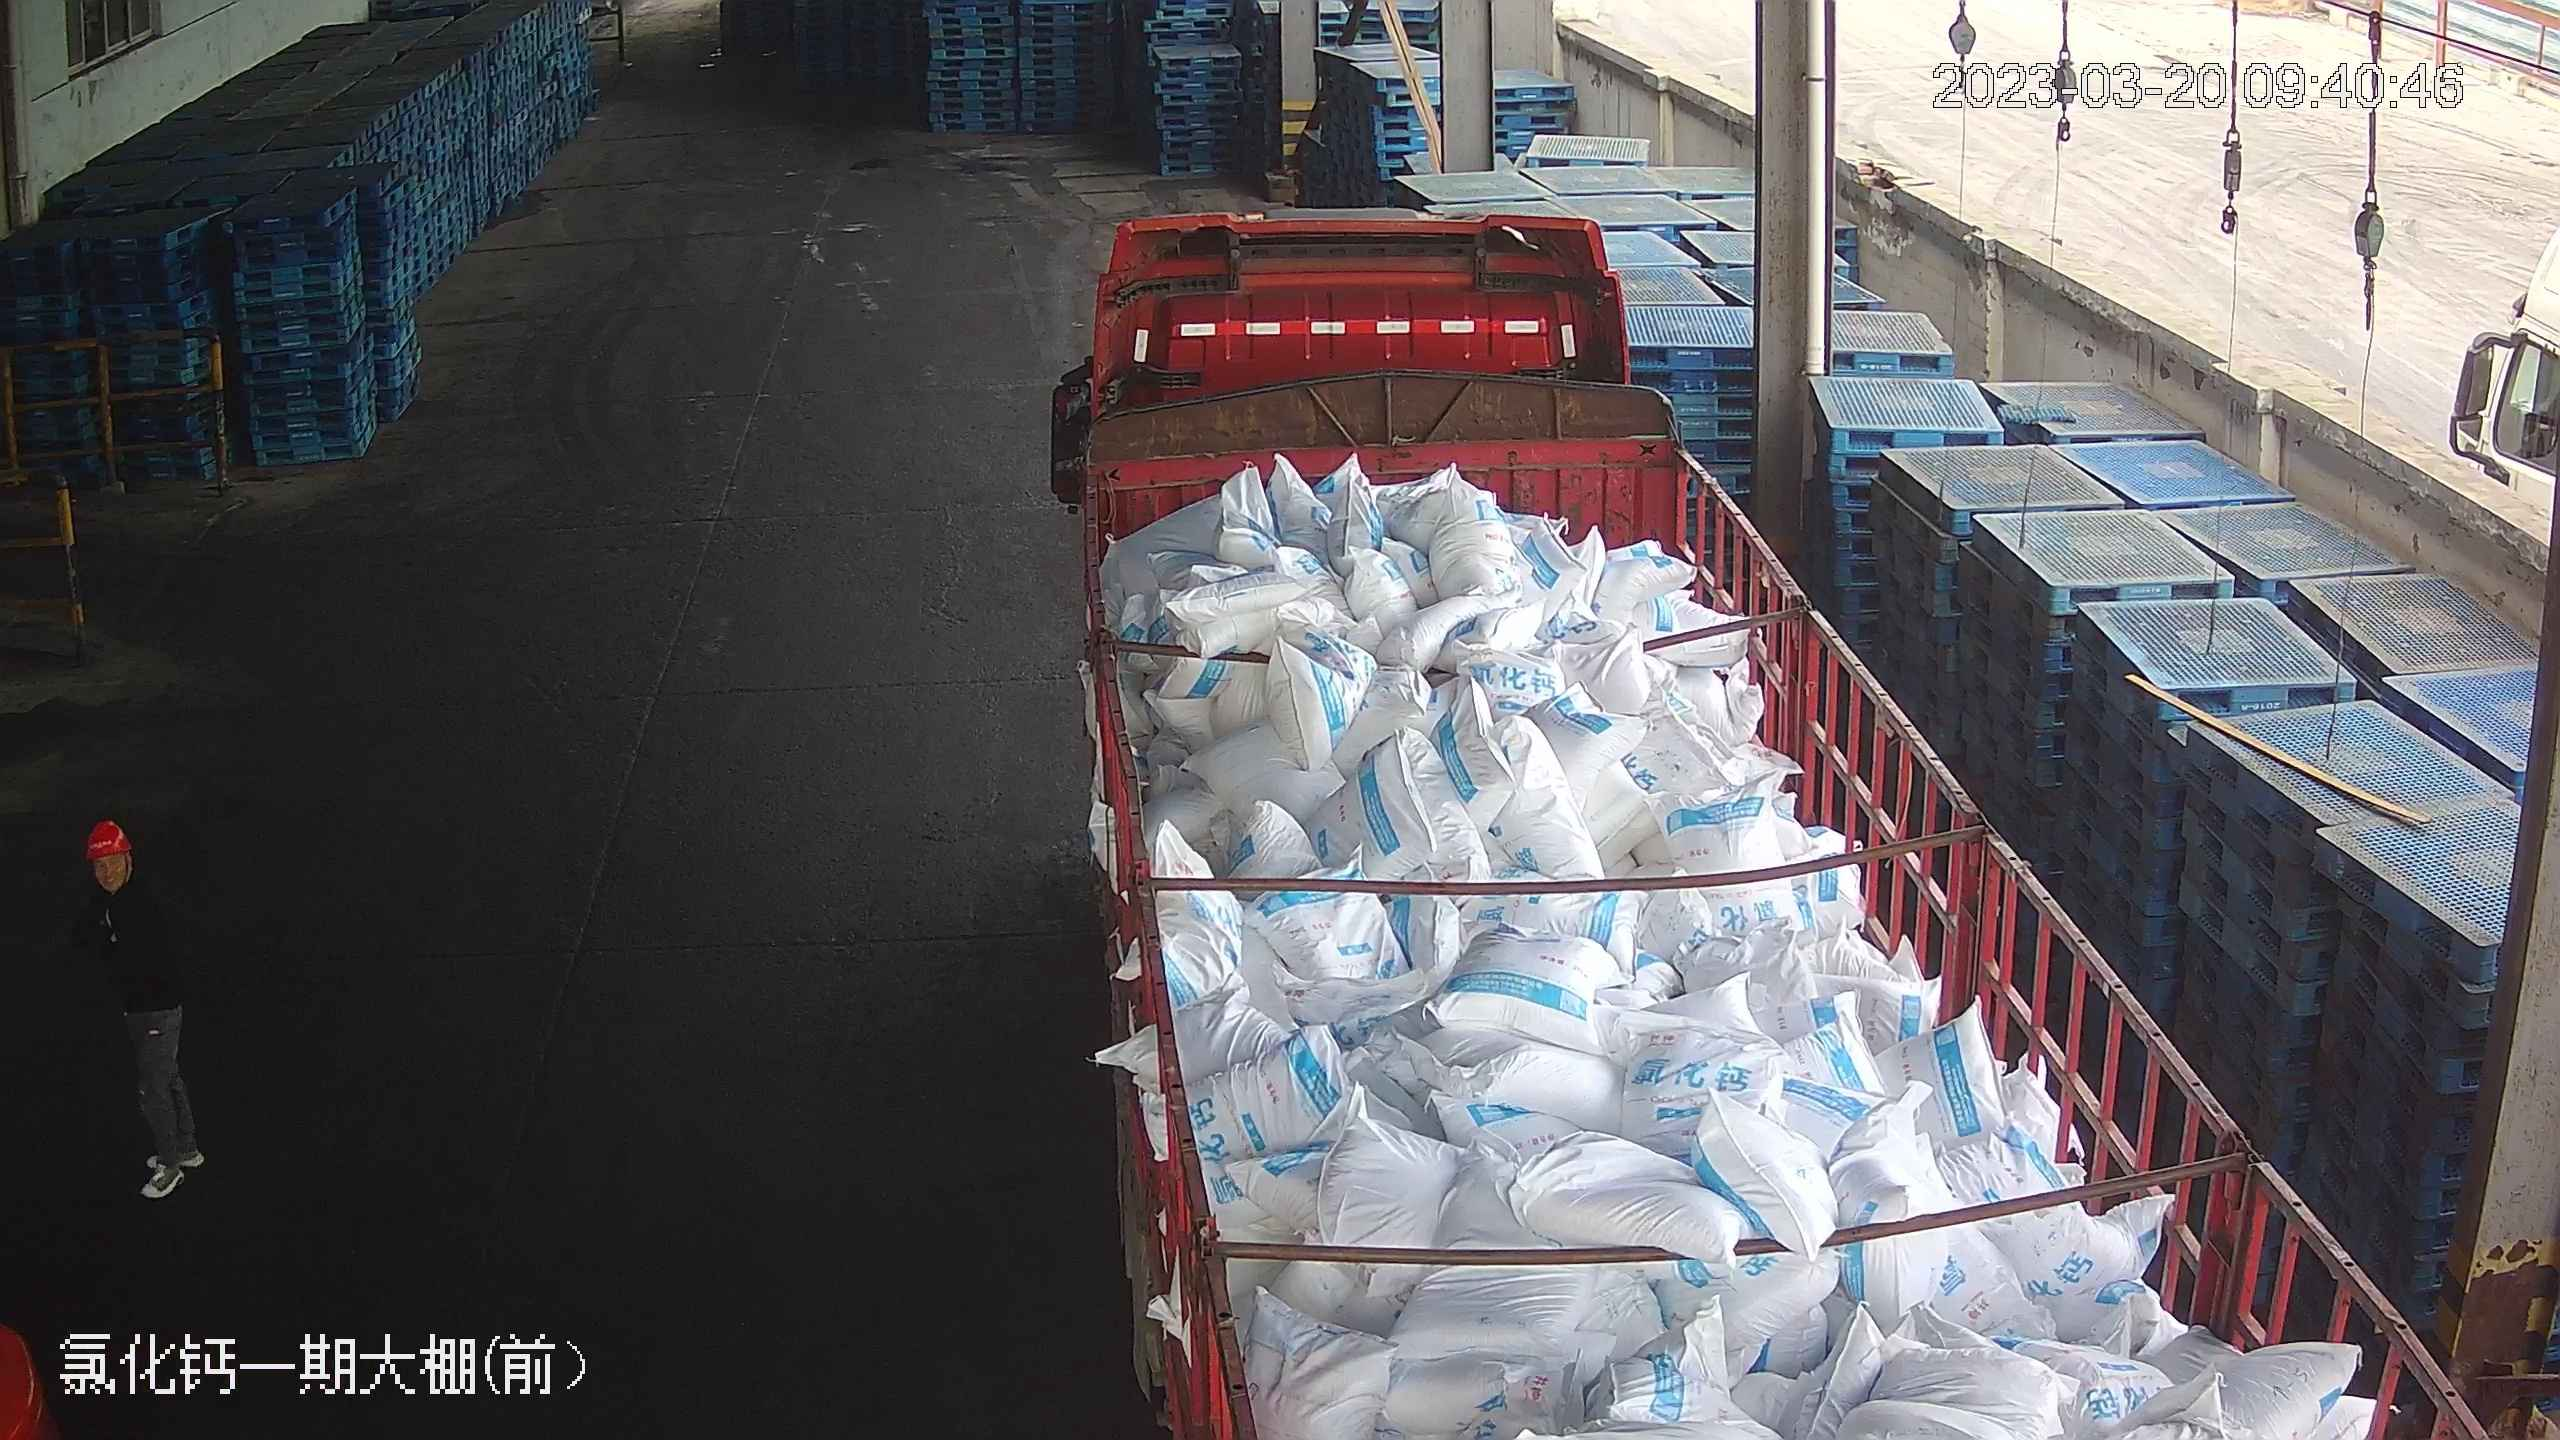head: (63, 817, 174, 957)
helmet: (81, 817, 134, 857)
people: (63, 817, 206, 1217)
truck: (1041, 190, 2406, 1440)
